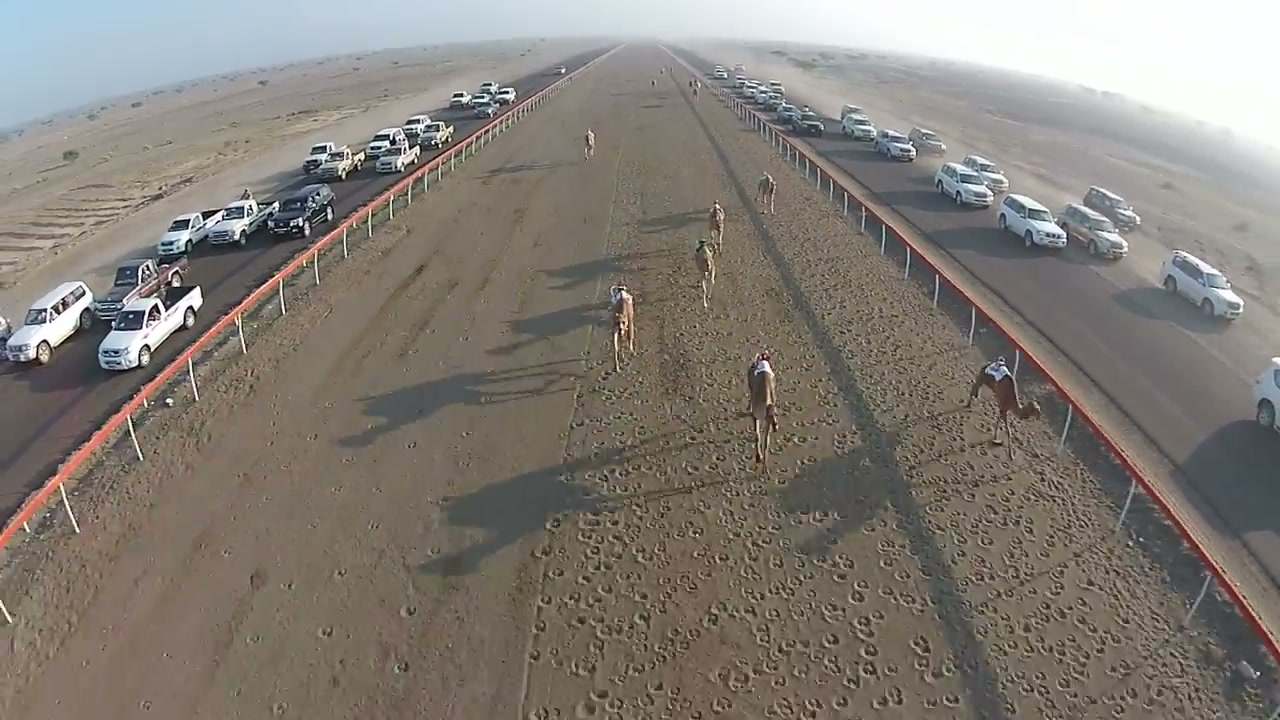animal_foot_print: (535, 388, 900, 709), (910, 422, 1175, 708)
